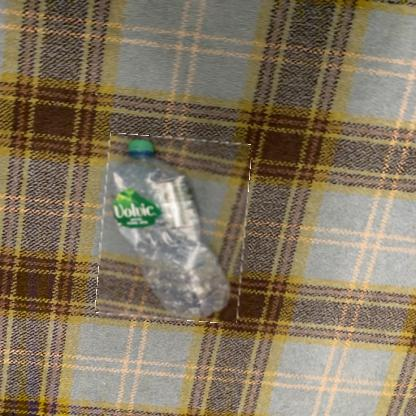plastic-bottles: (100, 137, 250, 322)
